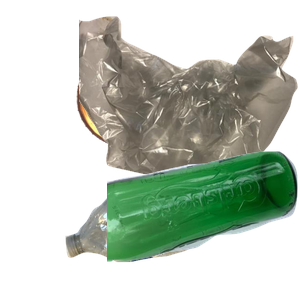glass: (107, 149, 300, 300)
metal: (74, 41, 229, 181)
plastic: (63, 170, 278, 300)
trash: (79, 14, 300, 194)
